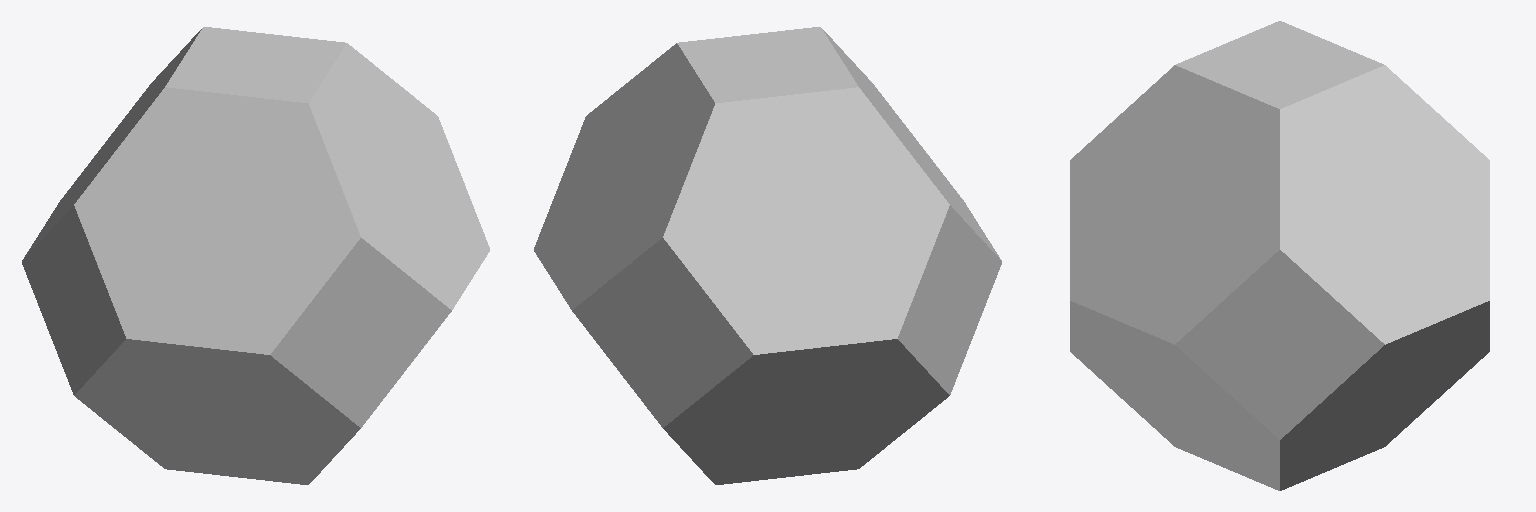
File: fcc1.obj
3 views of the same model, side by side, from view 1: azimuth 30°, elevation 25°; view 2: azimuth 150°, elevation 25°; view 3: azimuth 270°, elevation 25° (orthographic).
Parts seen in each view (by area): view 1: SketchUp_ID3; view 2: SketchUp_ID3; view 3: SketchUp_ID3.
Boxes of the visible parts, <box> form: SketchUp_ID3: <box>22,27,489,484</box>; SketchUp_ID3: <box>534,27,1001,484</box>; SketchUp_ID3: <box>1070,21,1489,490</box>.
Size of the model in its own units: 1.21 by 1.21 by 1.21.